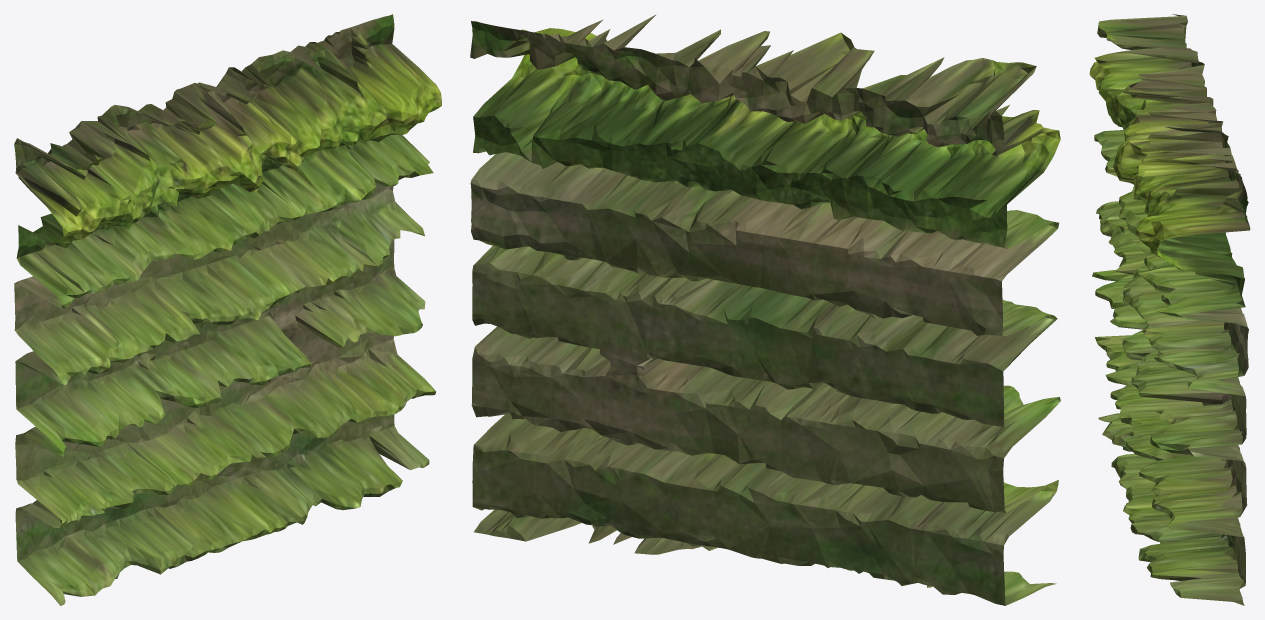
The model's file is map_40_50.obj.
3 views of the same model, side by side, from view 1: azimuth 30°, elevation 25°; view 2: azimuth 150°, elevation 25°; view 3: azimuth 270°, elevation 25° (orthographic). The views are drawn at different scales.
Visible parts, largest first — view 1: grp1; view 2: grp1; view 3: grp1.
Boxes of the visible parts, bbox=[...] form: grp1: bbox=[14, 14, 441, 605]; grp1: bbox=[470, 14, 1060, 605]; grp1: bbox=[1089, 14, 1250, 605].
Bounding box in the file's own units: 10 × 10 × 3.62.
1 material, 1 textured.
